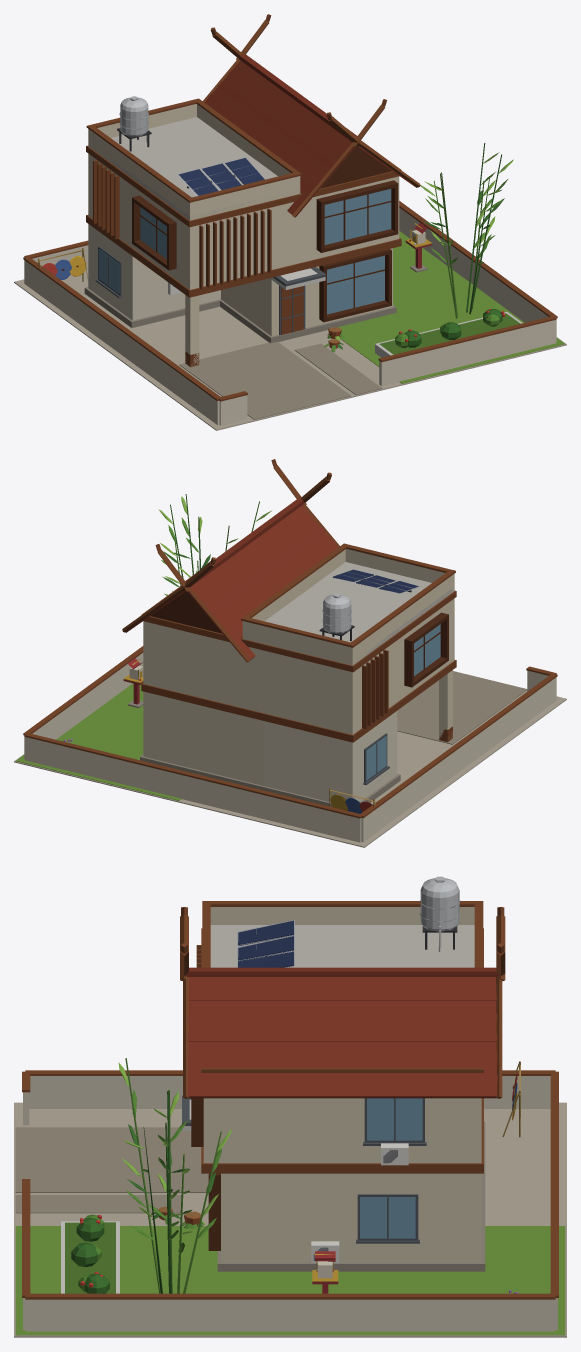
Rendered from home_1.glb.
The picture shows the model from 3 angles, top to bottom: view 1: azimuth 30°, elevation 25°; view 2: azimuth 150°, elevation 25°; view 3: azimuth 270°, elevation 25°; orthographic projection. The views are drawn at different scales.
Parts seen in each view (by area): view 1: body; view 2: body; view 3: body.
Boxes of the visible parts, x1,y1,x2,y2 form: body: (14, 14, 566, 430); body: (14, 459, 566, 847); body: (14, 876, 566, 1337).
Bounding box in the file's own units: 16.02 × 10.28 × 15.9.
